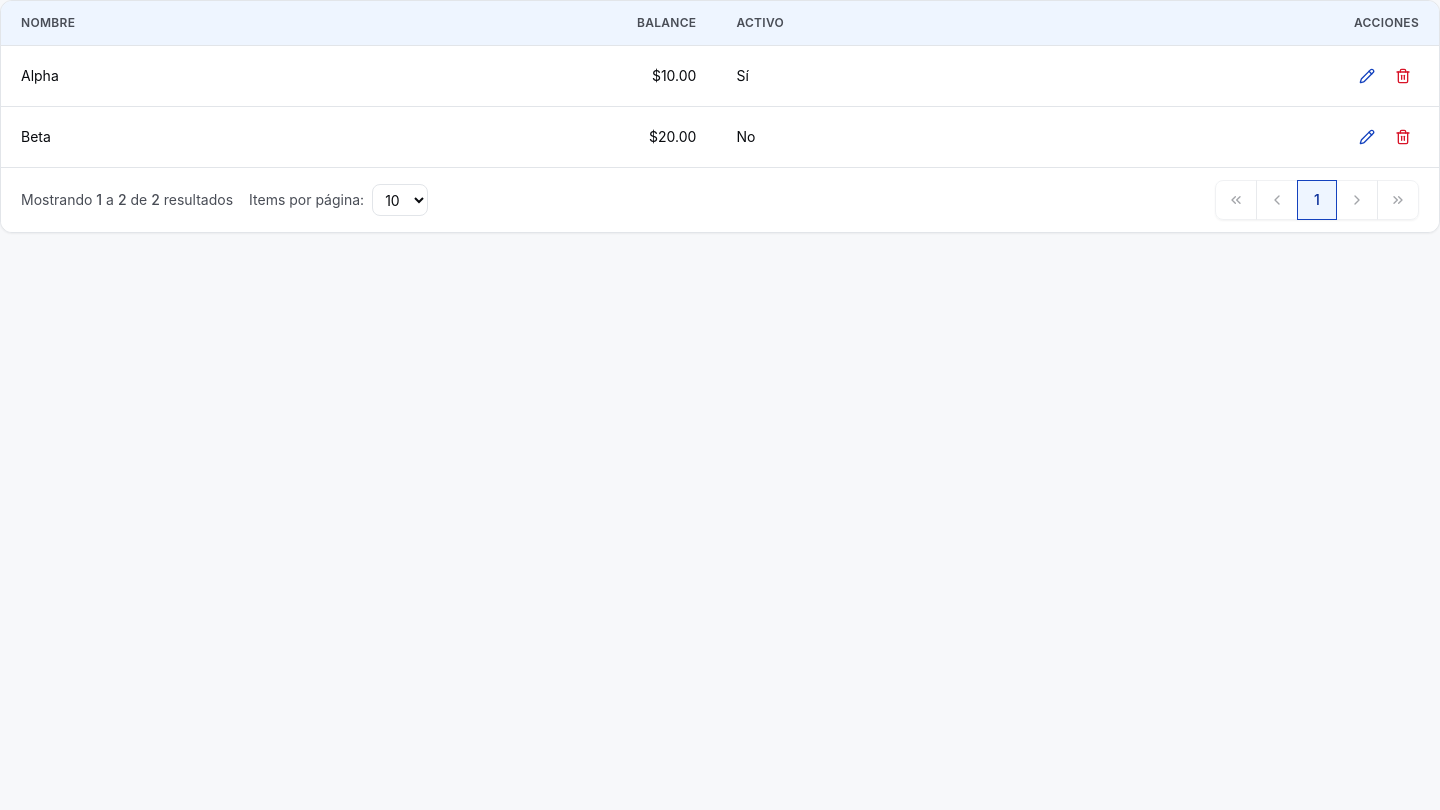
Scenario: GenericTable › en desktop (>= 1024px) › el botón Editar abre el modal con el item correcto y guardar invoca handleUpdate/updateItem
Click the button named "Editar" in the row of "Alpha" at (1367, 76), box [1351, 60, 1383, 92]
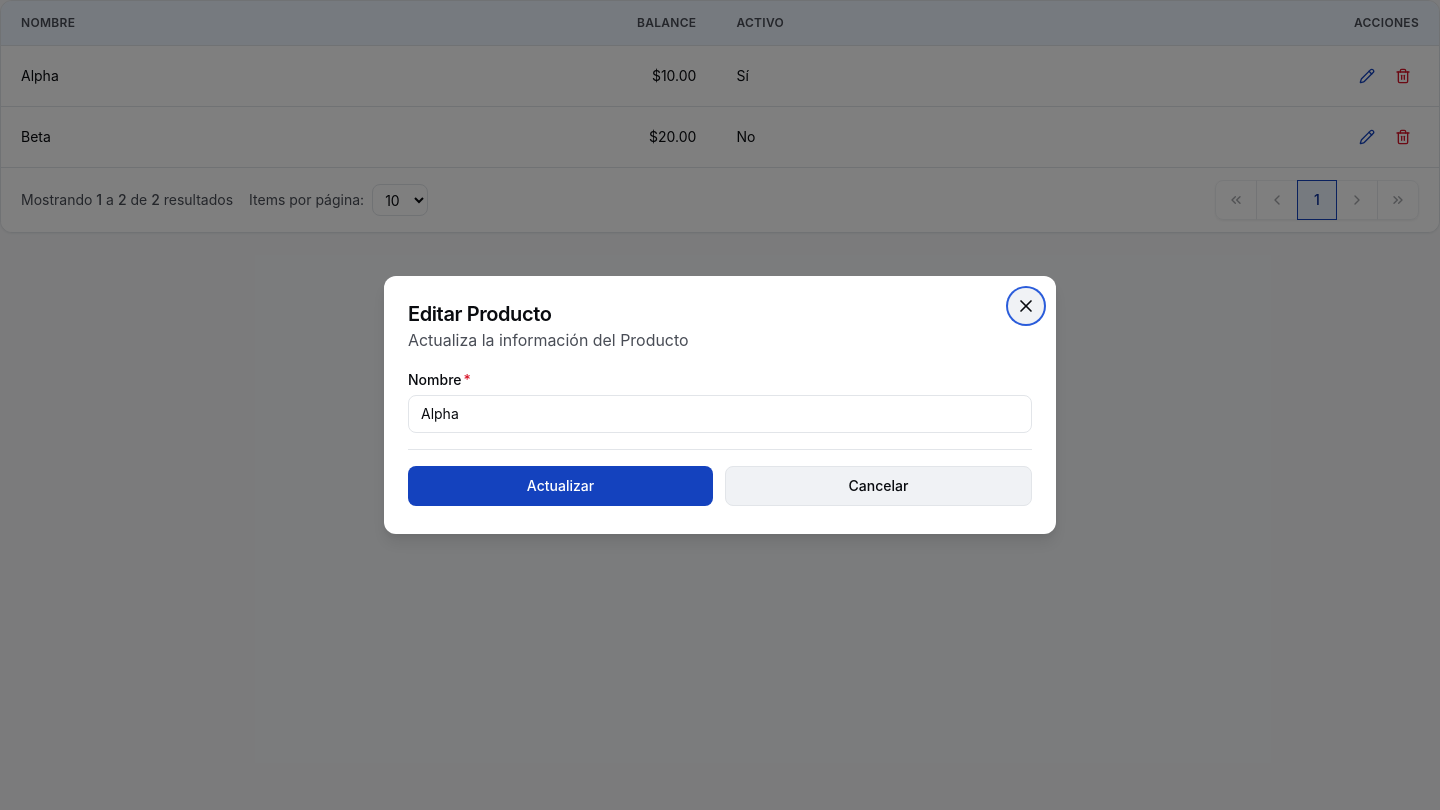
Now the field labelled "Nombre" holds "Alpha"
Replace the text in the field labelled "Nombre" with "Alpha renovado" at (720, 414), box [408, 395, 1032, 433]
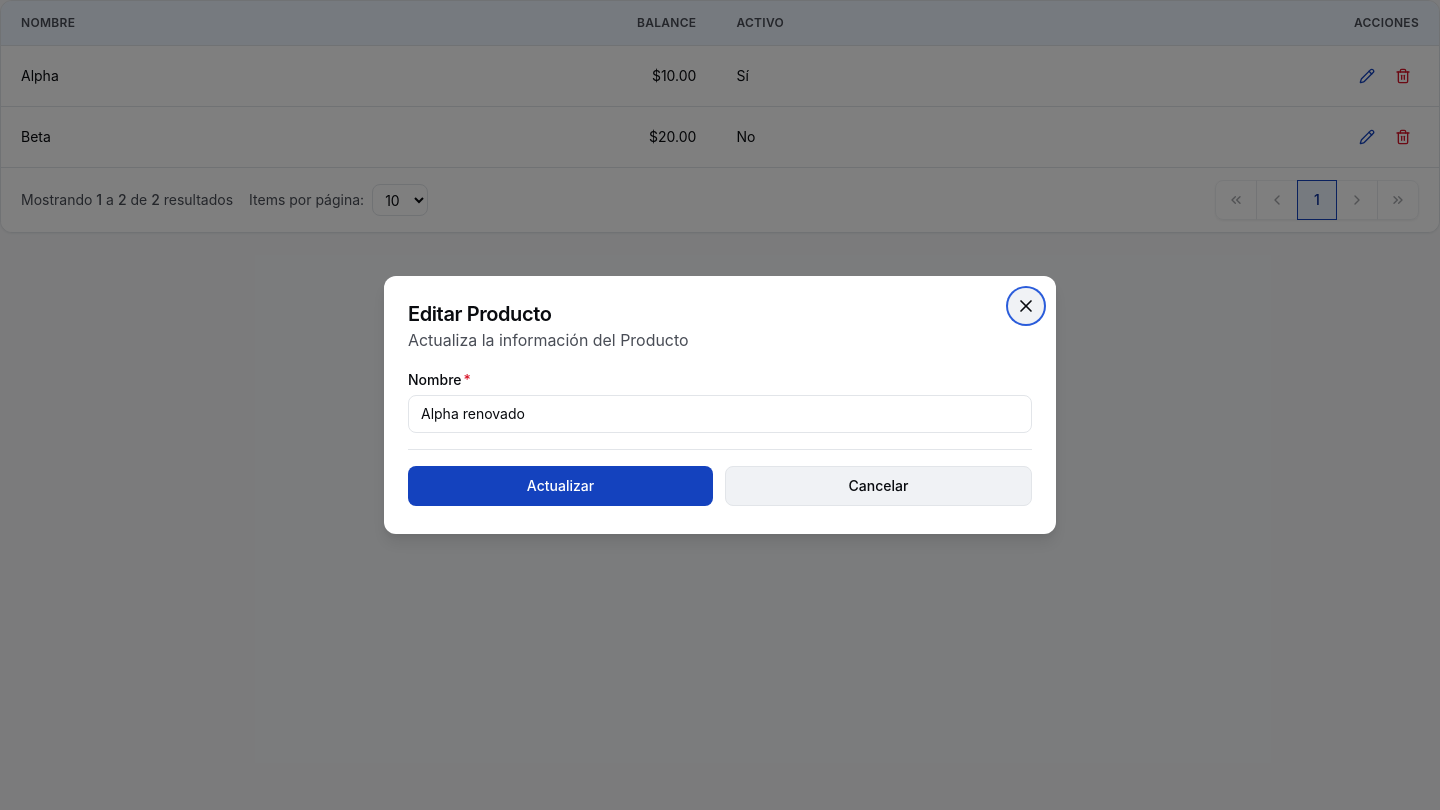
Click the button "Actualizar" at (560, 486), box [408, 466, 713, 506]
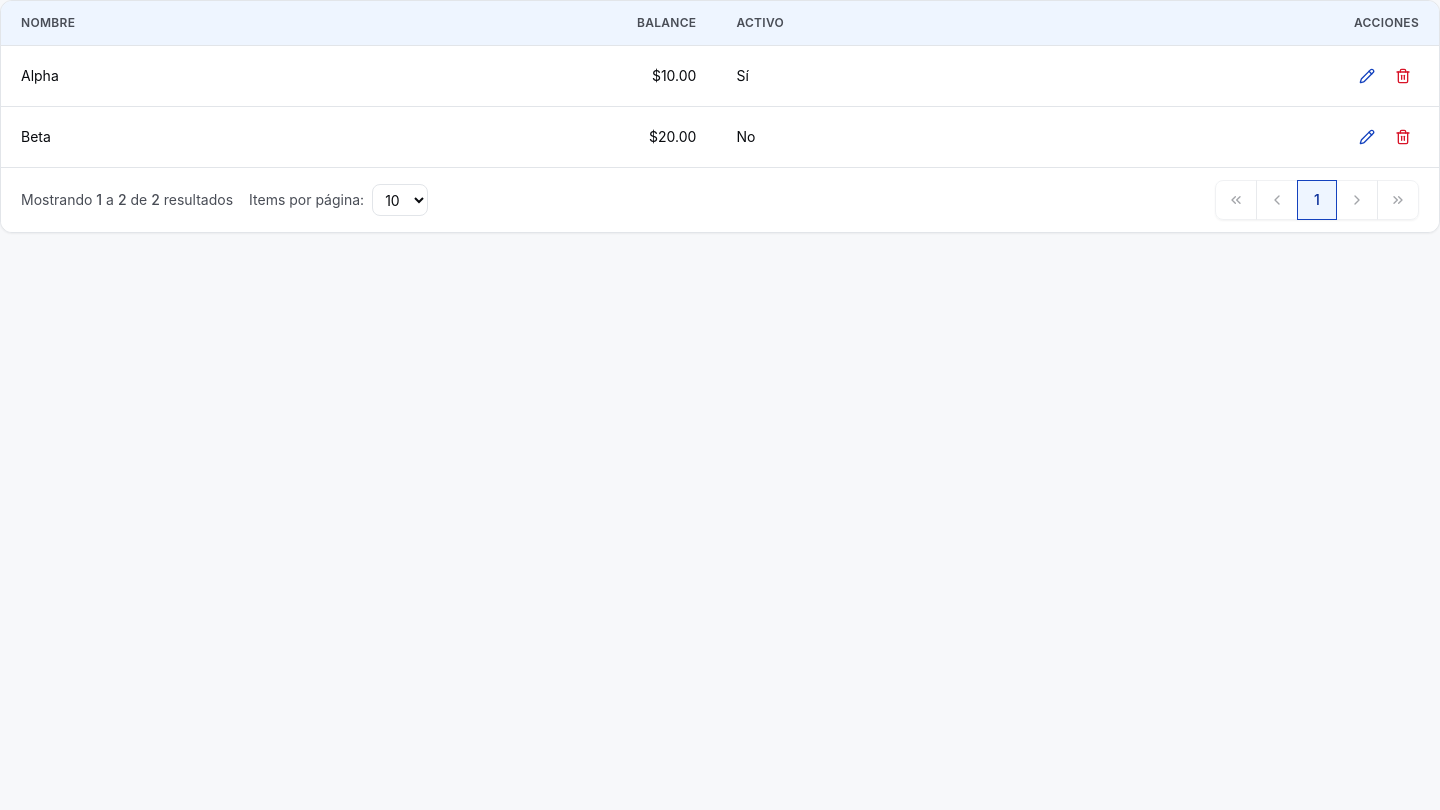
Now the dialog is gone
